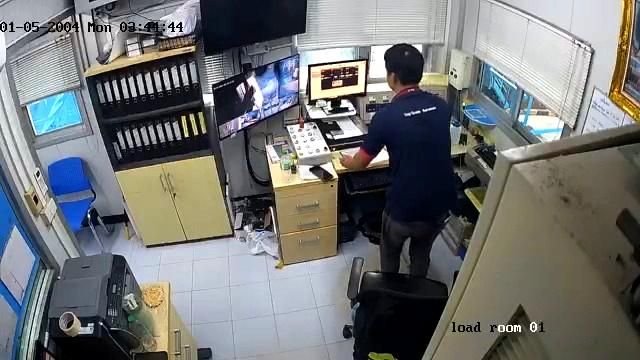Head: (382, 43, 428, 89)
People: (344, 45, 452, 269)
Phone: (309, 165, 334, 181)
